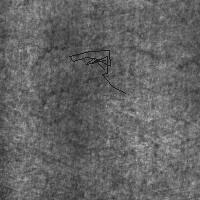crazing: (28, 76, 129, 157), (31, 26, 196, 71), (69, 50, 125, 93)
